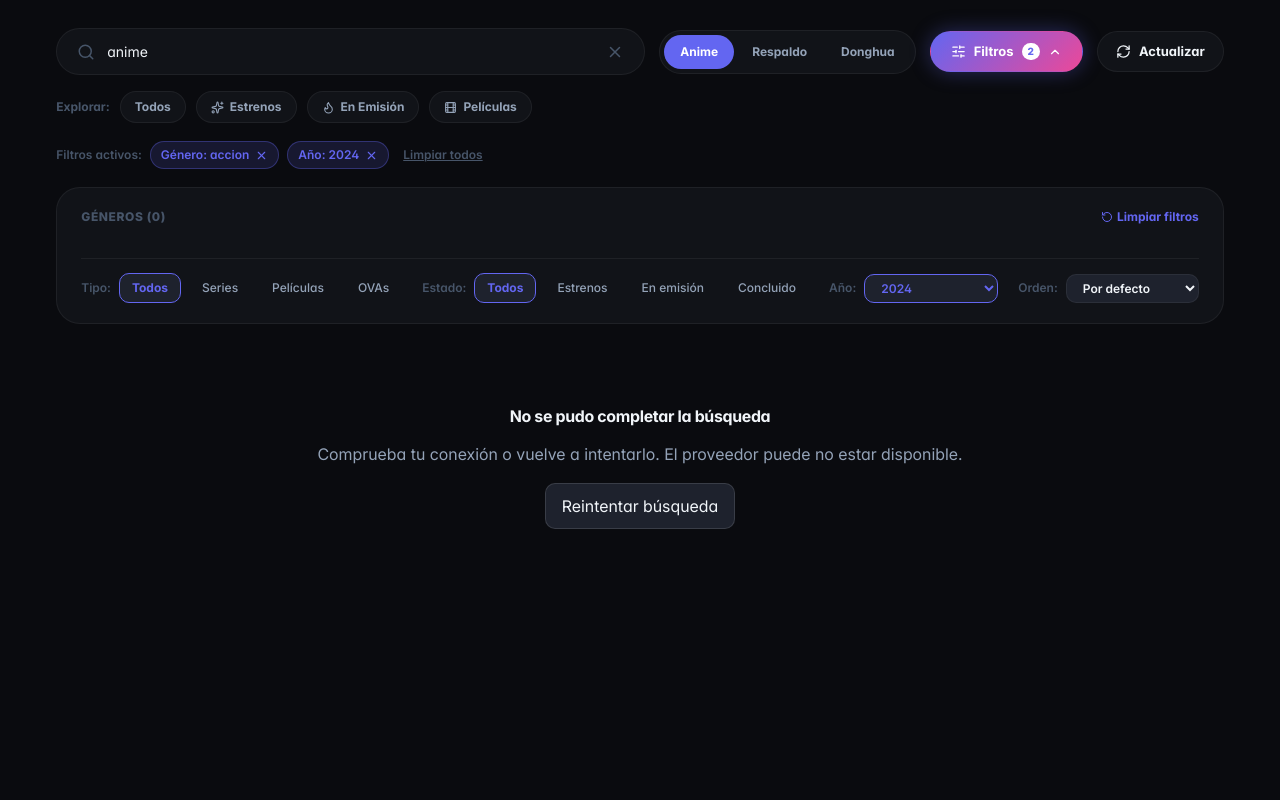
Test: desktop search recovery › distinguishes failure from empty results and retries the same filters and page
Expected: the message shows "No se pudo completar la búsqueda", 510,406 -> 770,426
What coordinates should you click on to do the following:
click the button "Reintentar búsqueda"
I would click on:
 (640, 506)
Its box is 545,483 -> 735,529.
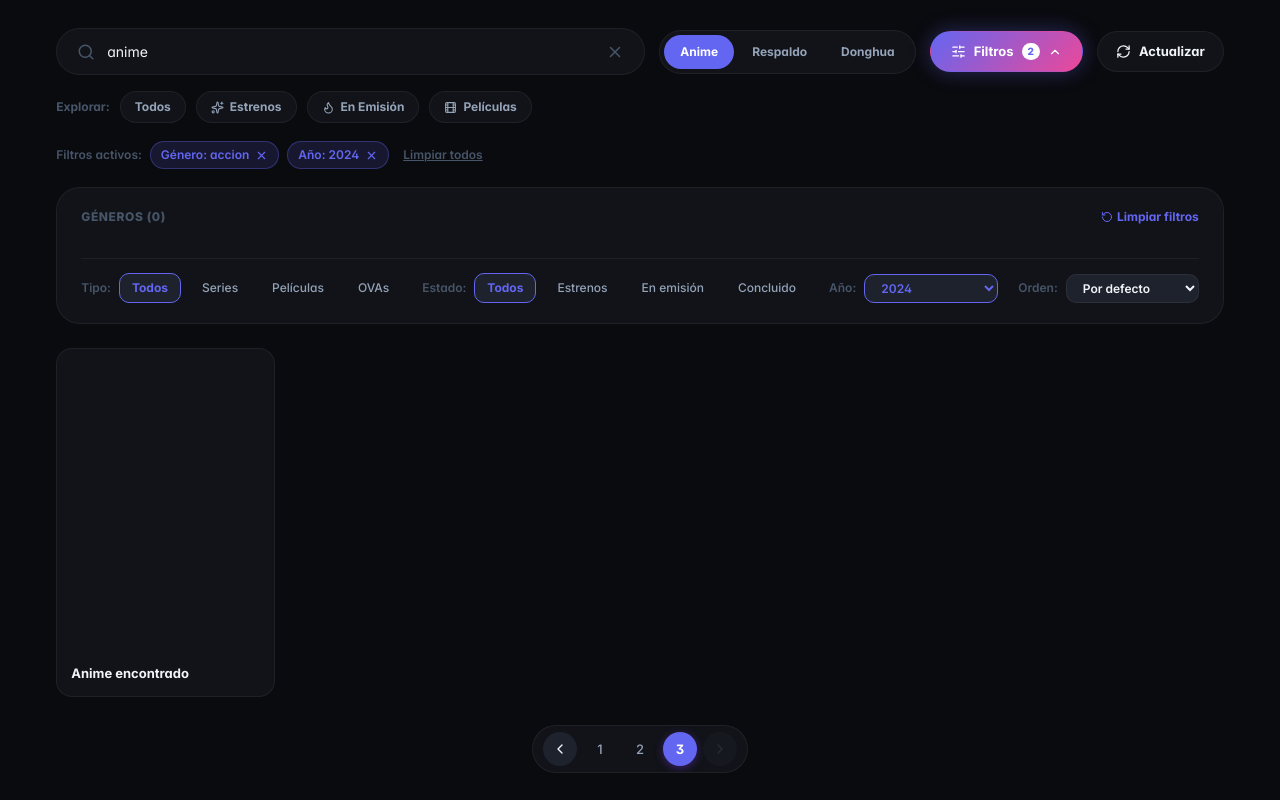
Result: the button with aria-label "Ver detalles de Anime encontrado" is shown at 56,348 -> 275,698
Result: the message is gone
